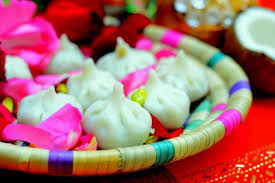modak: (82, 84, 163, 150), (127, 66, 196, 129), (26, 82, 86, 124)
